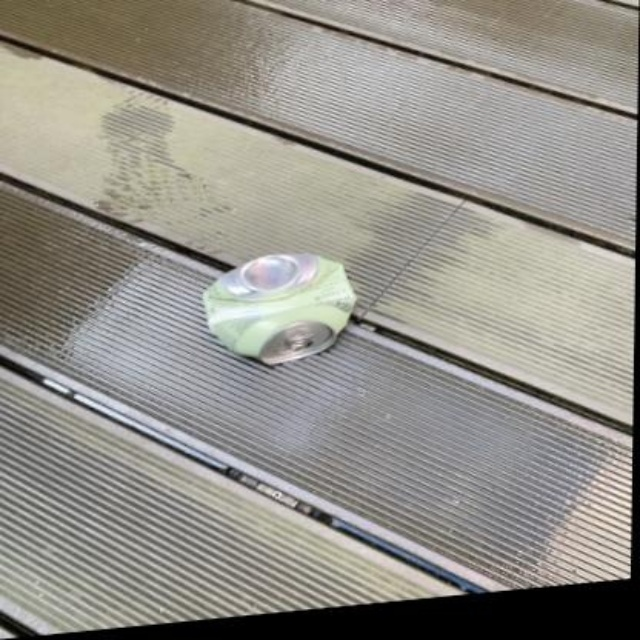trash: (203, 254, 354, 363)
